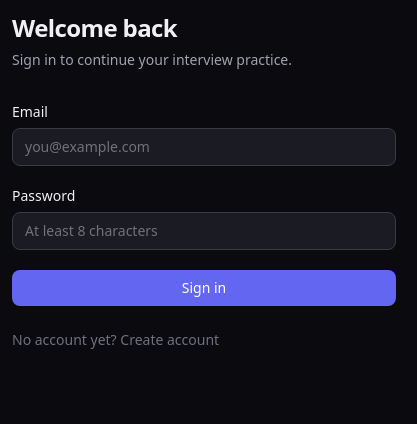
Test: AuthForm sign-in › surfaces invalid credentials
Type "dev@example.com" into the field labelled "Email". click: (204, 147)
box: [12,128,396,166]
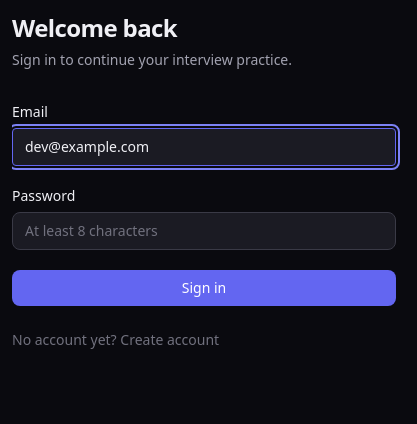
Type "wrongpass1" into the password field labelled "Password". click: (204, 231)
box: [12,212,396,250]
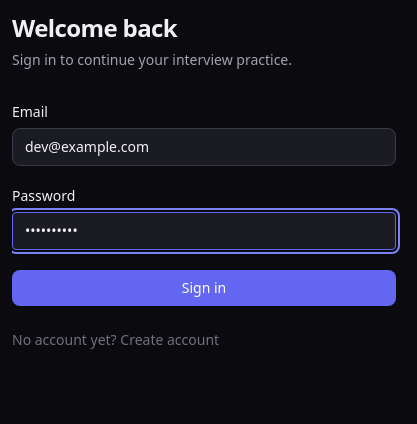
Click the button "Sign in". click: (204, 288)
box: [12,270,396,306]
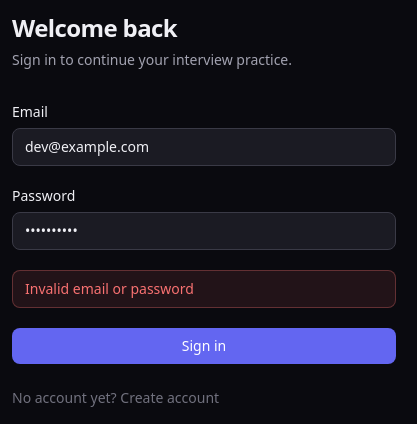
Now the text "Invalid email or password" is shown, box [12,270,396,308]
